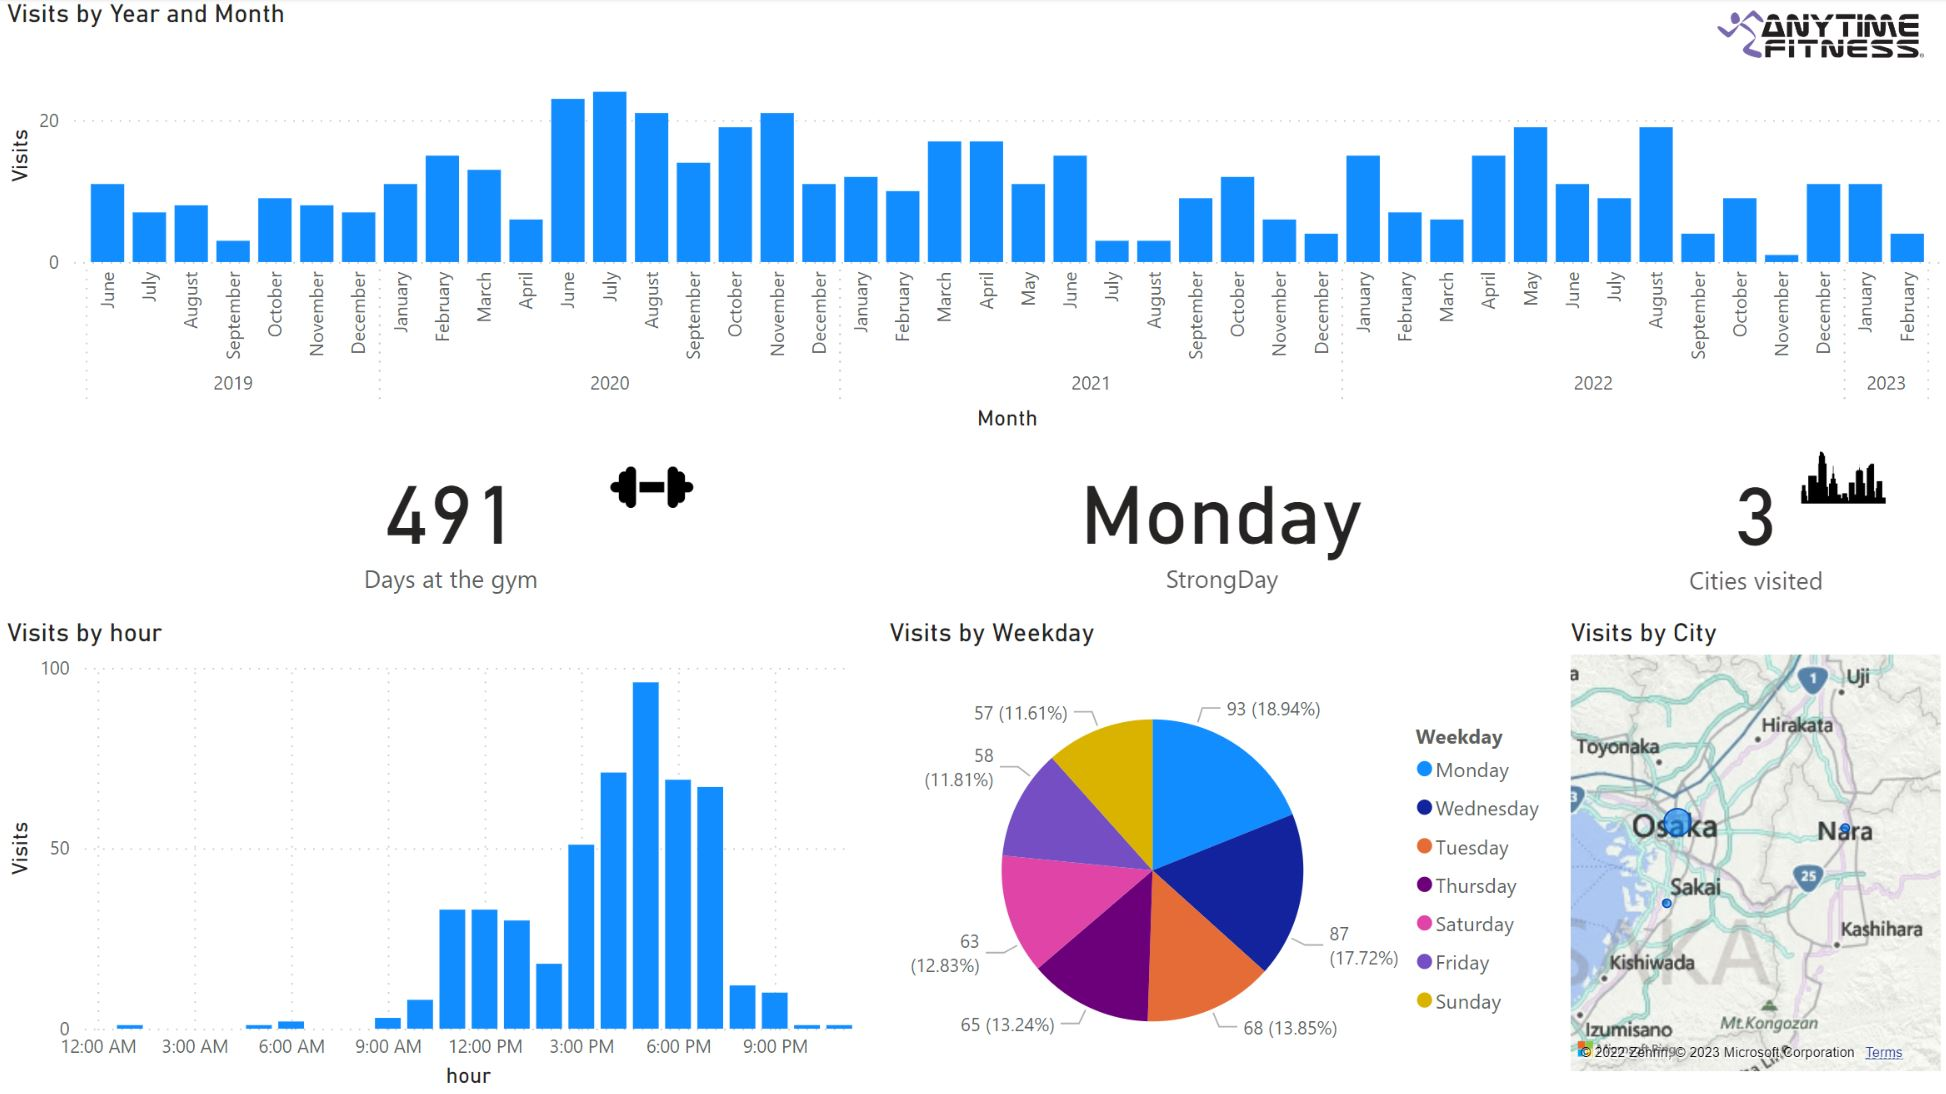

This screenshot's page, from the dashboard's own definition file:
{"tool":"powerbi","page":{"name":"Page 1","canvas":[1280,720],"ordinal":0},"visuals":[{"type":"clusteredColumnChart","fields":{"Y":["Measure.Visits"],"Category":["Calendar.Date.Variation.Date Hierarchy.Year","Calendar.Date.Variation.Date Hierarchy.Month"]},"box":[0,0,1280,288.3],"z":0},{"type":"card","fields":{"Values":["Measure.Visits"]},"box":[13.3,278.9,566.7,127.8],"z":0,"group":"g1"},{"type":"card","fields":{"Values":["Count(AF_history.City)"]},"box":[1026.7,280.5,253.3,126.2],"z":0,"group":"g2"},{"type":"image","box":[1170,268.9,81.1,94],"z":1000,"group":"g2"},{"type":"image","box":[357.4,284.6,143.3,77.8],"z":1000,"group":"g1"},{"type":"pieChart","fields":{"Category":["Calendar.Weekday"],"Y":["Measure.Visits"]},"box":[580,406.7,446.7,313.3],"z":1000},{"type":"clusteredColumnChart","fields":{"Category":["TimeTable.time_1hour"],"Y":["Measure.Visits"]},"box":[0,406.7,580,313.3],"z":2000},{"type":"map","fields":{"Category":["AF_history.City"],"Size":["Measure.Visits"]},"box":[1026.7,406.7,253.3,303.3],"z":3000},{"type":"group","id":"g1","title":"Days at gym card","box":[13.3,278.9,566.7,127.8],"z":4000},{"type":"group","id":"g2","title":"Cities","box":[1026.7,268.9,253.3,137.8],"z":5000},{"type":"image","box":[1113.3,0,166.7,46.7],"z":6000},{"type":"card","fields":{"Values":["Measure.StrongDay"]},"box":[580,284.4,446.7,117.8],"z":7000}]}

Visuals, with their boxes in screenshot pixels (x1, y1, x2, y2), scaled from the page's 1280x720 canvas onto the 1946x1094 screenshot:
clusteredColumnChart - Measure.Visits x Calendar.Date.Variation.Date Hierarchy.Year: detection(0, 0, 1945, 438)
card - Measure.Visits: detection(20, 424, 882, 618)
card - Count(AF_history.City): detection(1561, 426, 1945, 618)
image: detection(1779, 409, 1902, 551)
image: detection(543, 432, 761, 551)
pieChart - Calendar.Weekday x Measure.Visits: detection(882, 618, 1561, 1093)
clusteredColumnChart - TimeTable.time_1hour x Measure.Visits: detection(0, 618, 882, 1093)
map - AF_history.City x Measure.Visits: detection(1561, 618, 1945, 1079)
"Days at gym card" group: detection(20, 424, 882, 618)
"Cities" group: detection(1561, 409, 1945, 618)
image: detection(1693, 0, 1945, 71)
card - Measure.StrongDay: detection(882, 432, 1561, 611)
